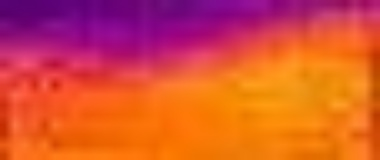Shadow: (1, 1, 292, 68)
